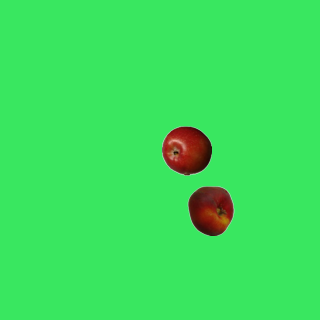Apple Braeburn: (161, 125, 211, 175)
Nectarine Flat: (185, 185, 235, 235)
